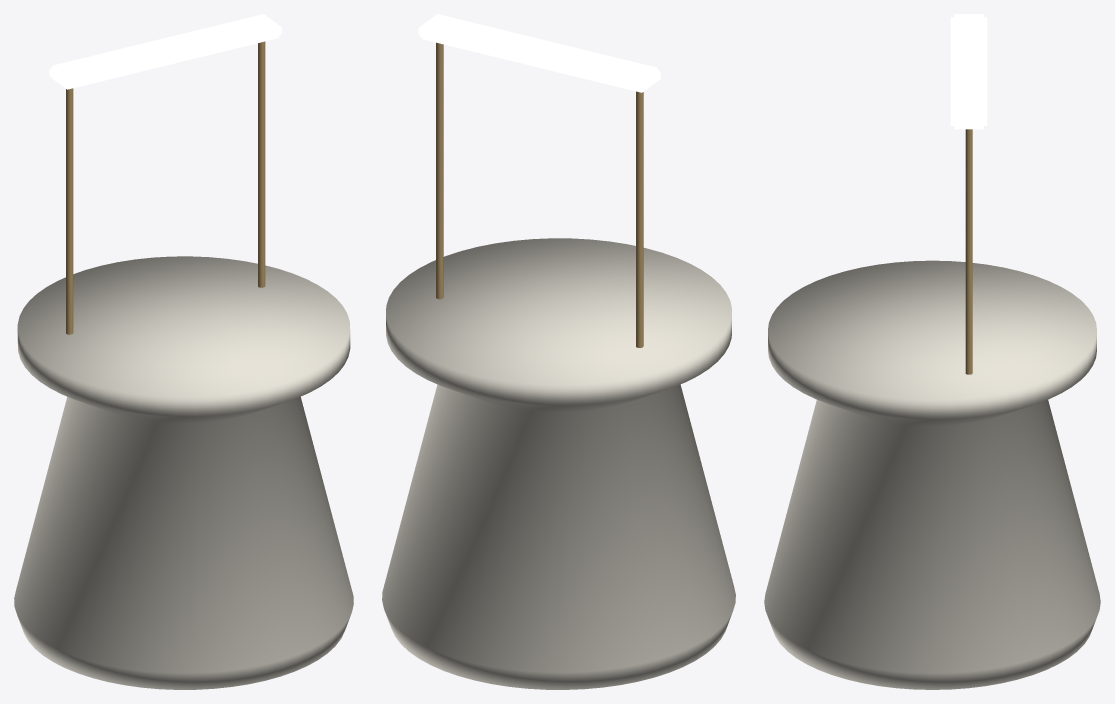
The model's file is fixture_v25_scent_podium.glb.
3 views of the same model, side by side, from view 1: azimuth 30°, elevation 25°; view 2: azimuth 150°, elevation 25°; view 3: azimuth 270°, elevation 25° (orthographic). The views are drawn at different scales.
Parts seen in each view (by area): view 1: fixture_v25_scent_podium_V25_satin_ivory, fixture_v25_scent_podium_V25_opal_light, fixture_v25_scent_podium_Satin_champagne; view 2: fixture_v25_scent_podium_V25_satin_ivory, fixture_v25_scent_podium_V25_opal_light, fixture_v25_scent_podium_Satin_champagne; view 3: fixture_v25_scent_podium_V25_satin_ivory, fixture_v25_scent_podium_V25_opal_light, fixture_v25_scent_podium_Satin_champagne.
Boxes of the visible parts, bbox=[...] form: fixture_v25_scent_podium_V25_satin_ivory: bbox=[14, 256, 353, 689]; fixture_v25_scent_podium_V25_opal_light: bbox=[49, 14, 281, 89]; fixture_v25_scent_podium_Satin_champagne: bbox=[66, 41, 265, 334]; fixture_v25_scent_podium_V25_satin_ivory: bbox=[382, 238, 735, 689]; fixture_v25_scent_podium_V25_opal_light: bbox=[418, 14, 660, 92]; fixture_v25_scent_podium_Satin_champagne: bbox=[436, 42, 643, 347]; fixture_v25_scent_podium_V25_satin_ivory: bbox=[764, 260, 1100, 689]; fixture_v25_scent_podium_V25_opal_light: bbox=[950, 14, 987, 129]; fixture_v25_scent_podium_Satin_champagne: bbox=[965, 129, 972, 374].
Bounding box in the file's own units: 0.92 × 1.68 × 0.92.
